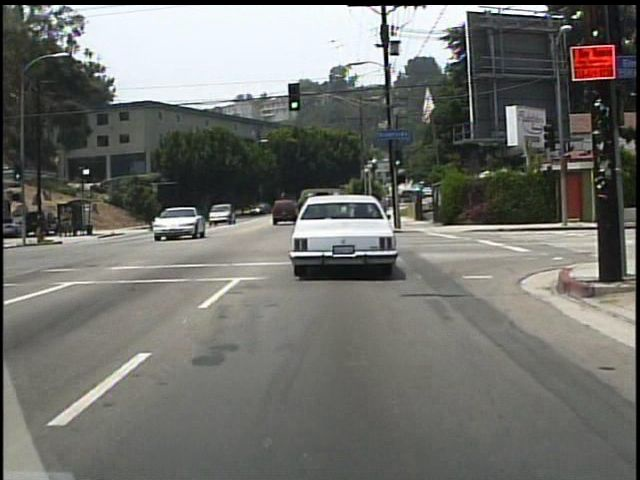person: (161, 209, 169, 229)
